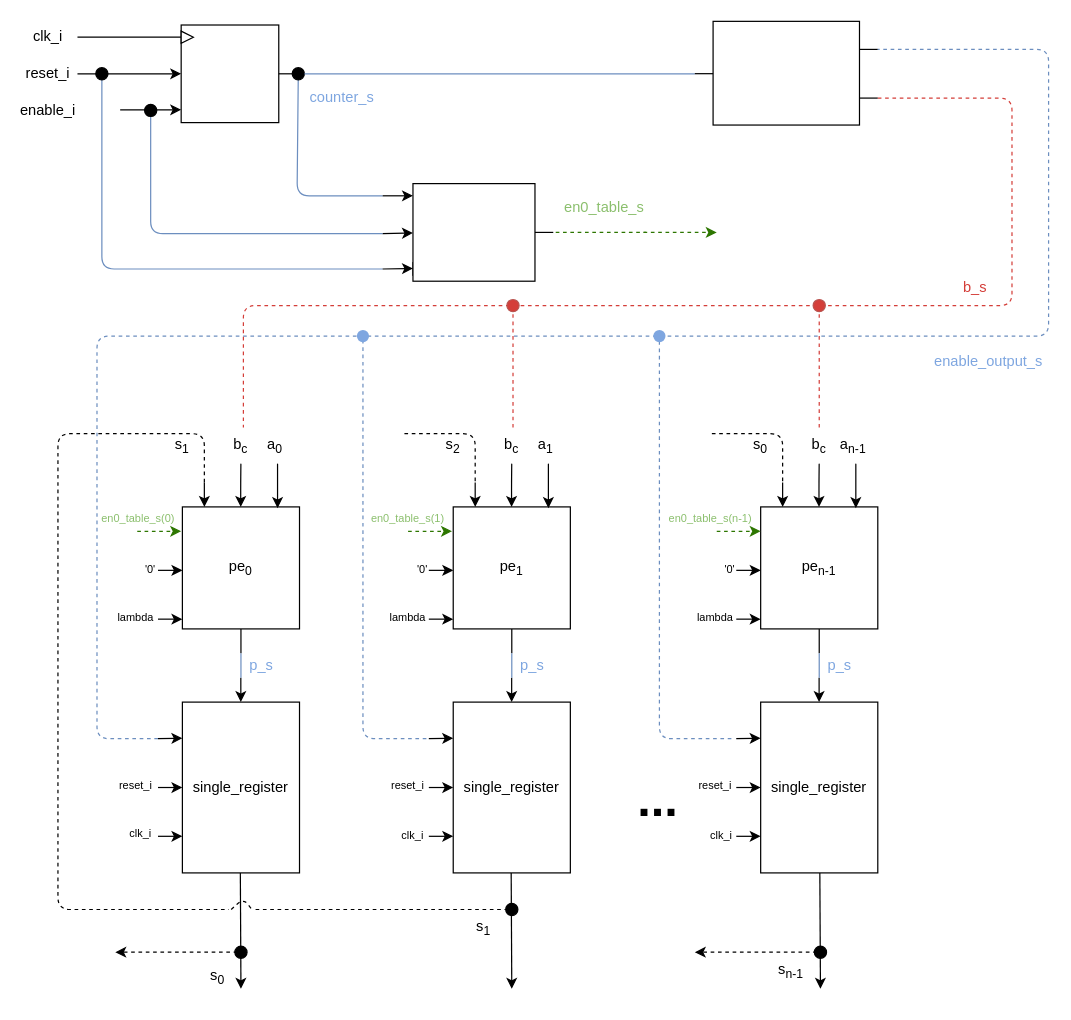
The diagram is 1071 pixels wide and 1020 high, and some of its shapes have lost their labels. The shapes that lost their labels are listed below. From the top down, each one's centre as x and y in pixels, then its label:
the point at 229,73: counter
the point at 785,72: FSM
the point at 473,231: lambda_lookup
